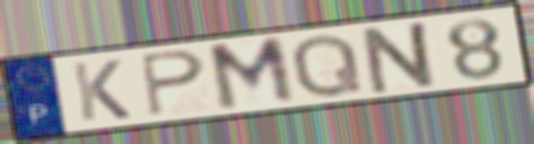8: (442, 15, 508, 83)
K: (68, 57, 134, 123)
M: (204, 34, 300, 114)
N: (360, 18, 442, 97)
P: (136, 48, 209, 119)
Q: (289, 31, 366, 100)
